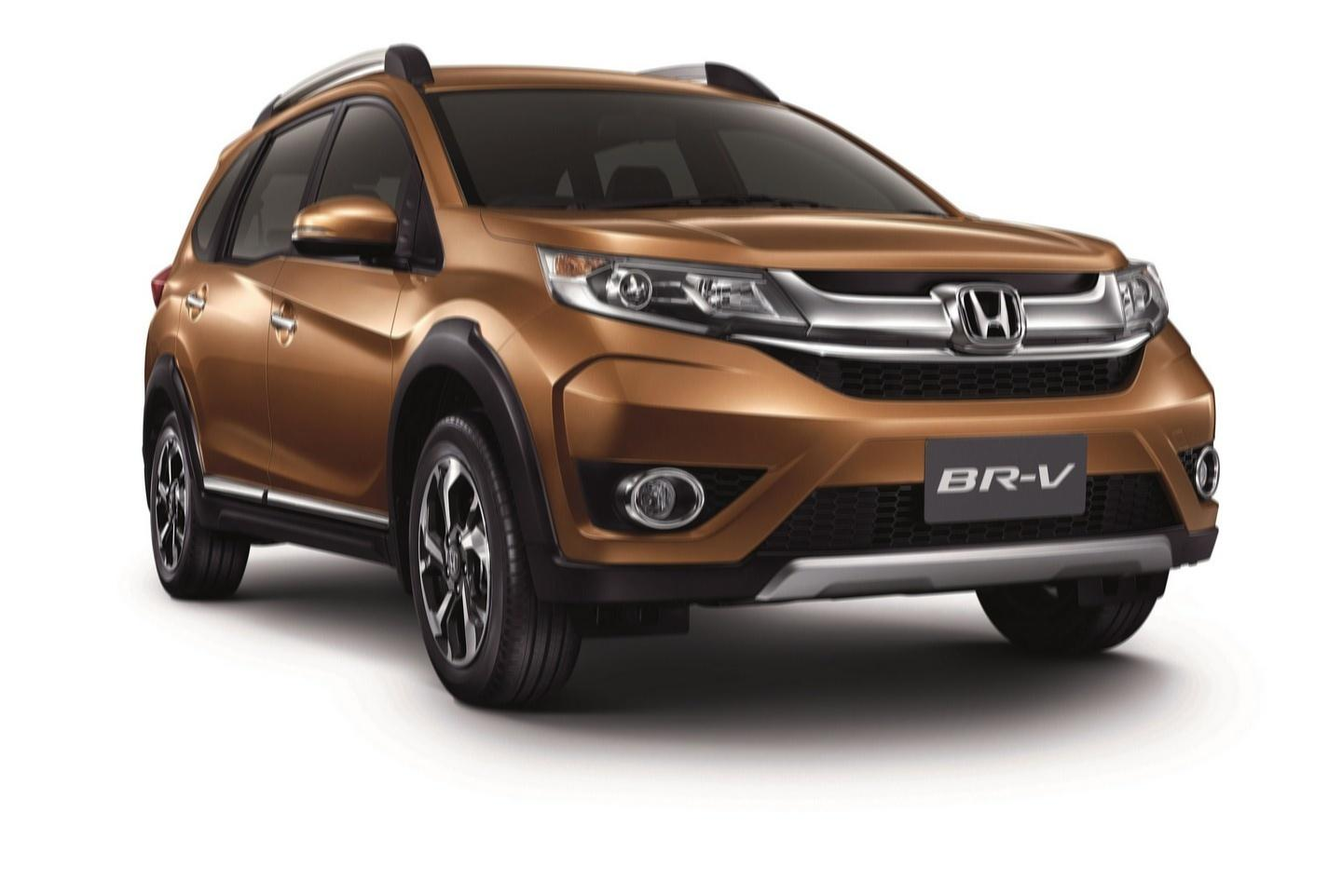Car hood: (477, 204, 1135, 278)
Driver-s door - -F-R-: (269, 82, 416, 536)
Fender - -F-R-: (384, 198, 557, 537)
Fender - -R-R-: (146, 301, 182, 427)
Front bumper: (497, 306, 1231, 614)
Headlight - -L-: (1100, 250, 1173, 356)
Headlight - -R-: (530, 238, 816, 343)
Passenger-s door - -R-R-: (180, 93, 336, 533)
Rear light - -R-: (142, 247, 180, 313)
Side bumper - -R-: (180, 466, 406, 581)
Side mirror - -R-: (286, 185, 406, 274)
